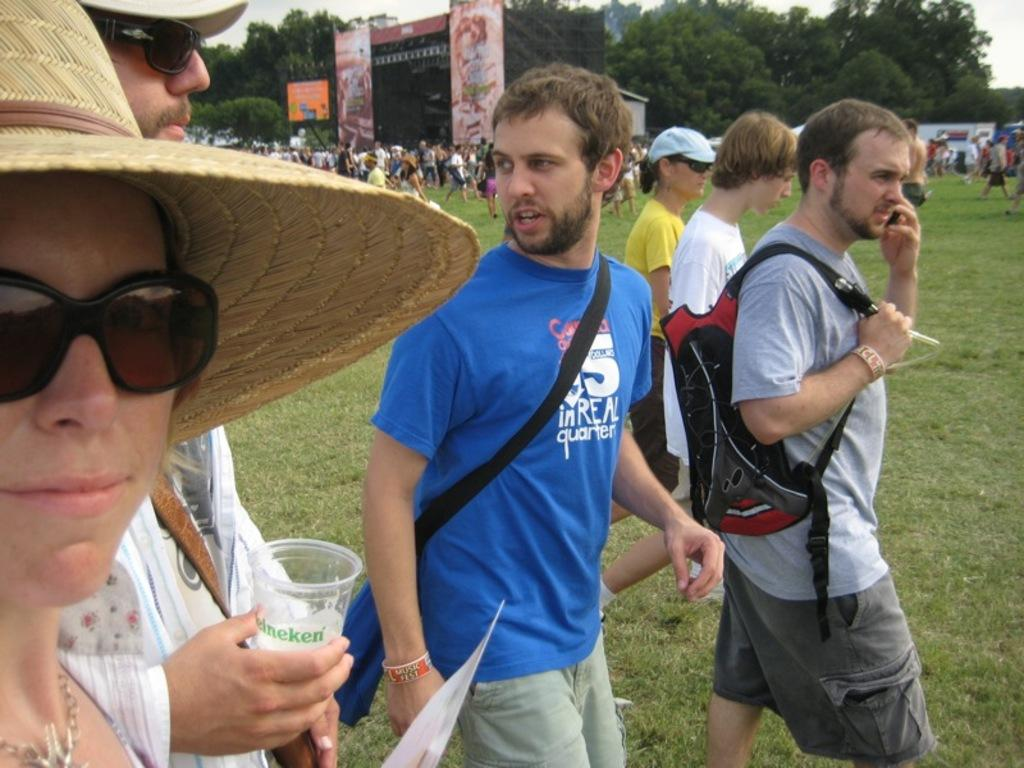Hat: (0, 0, 478, 445), (81, 0, 249, 40), (643, 126, 719, 164)
